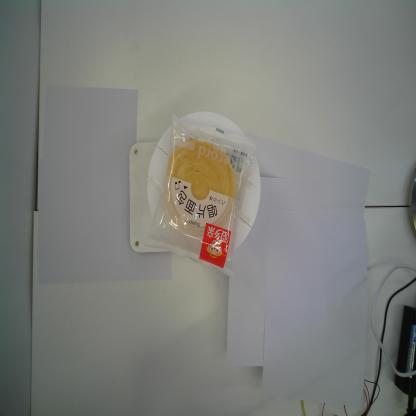Dessert: (142, 114, 258, 280)
